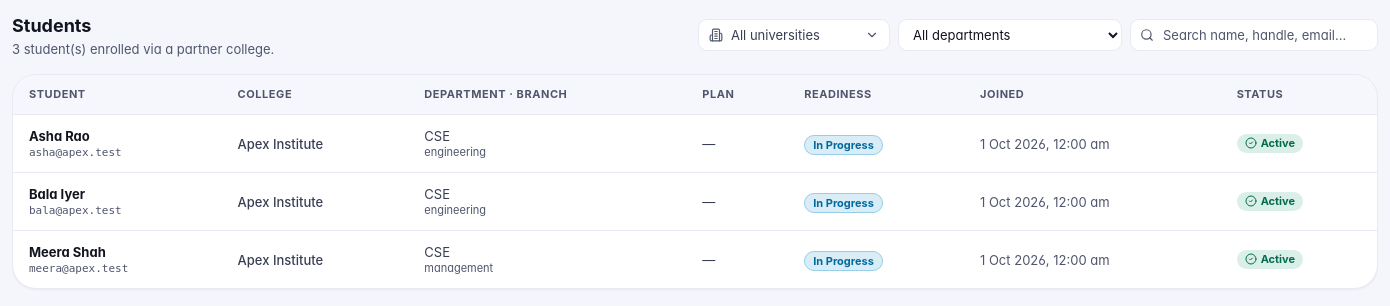
Test: Students tab — filters › says when nothing matches, and Clear filters puts every control back
expect the text "Asha Rao" is shown: met, box [29,128,90,144]
Select "Commerce (0)" in the dropdown named "Filter by department" at coordinates (1010, 35), box [898,19,1122,51]
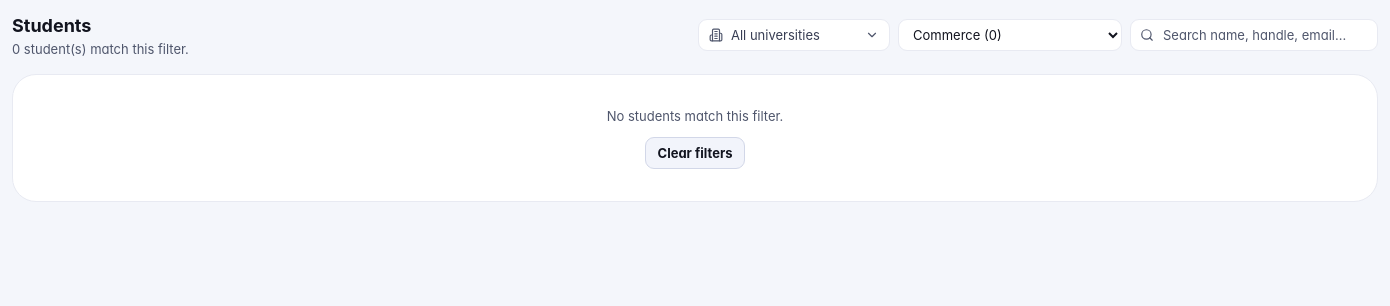
expect the text "No students match this filter." is shown: met, box [607,108,783,124]
Click the button "Clear filters" at coordinates (695, 153), box [644,137,745,169]
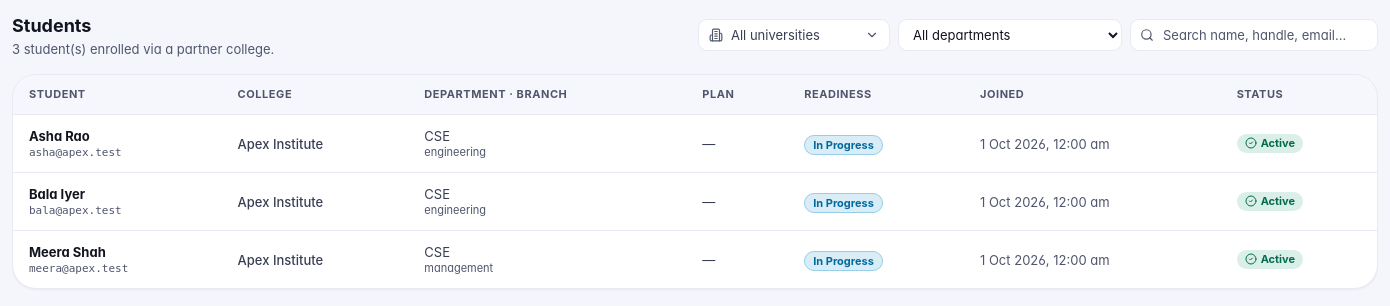
expect the text "Asha Rao" is shown: met, box [29,128,90,144]
